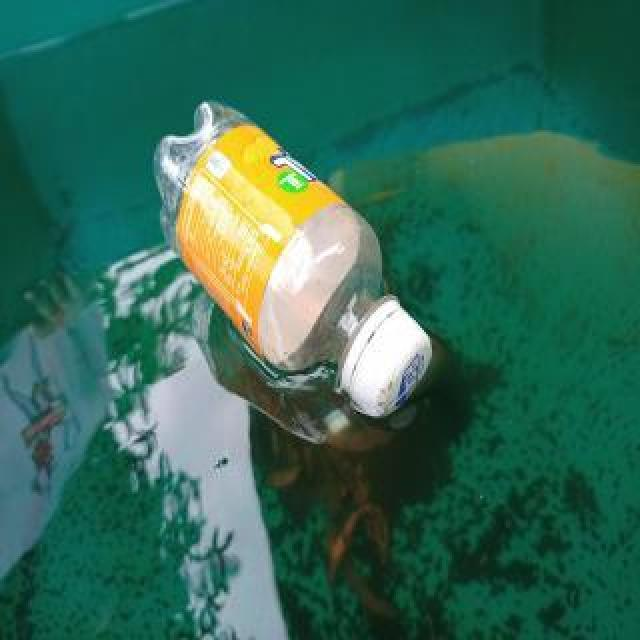bottle: (151, 98, 433, 422)
